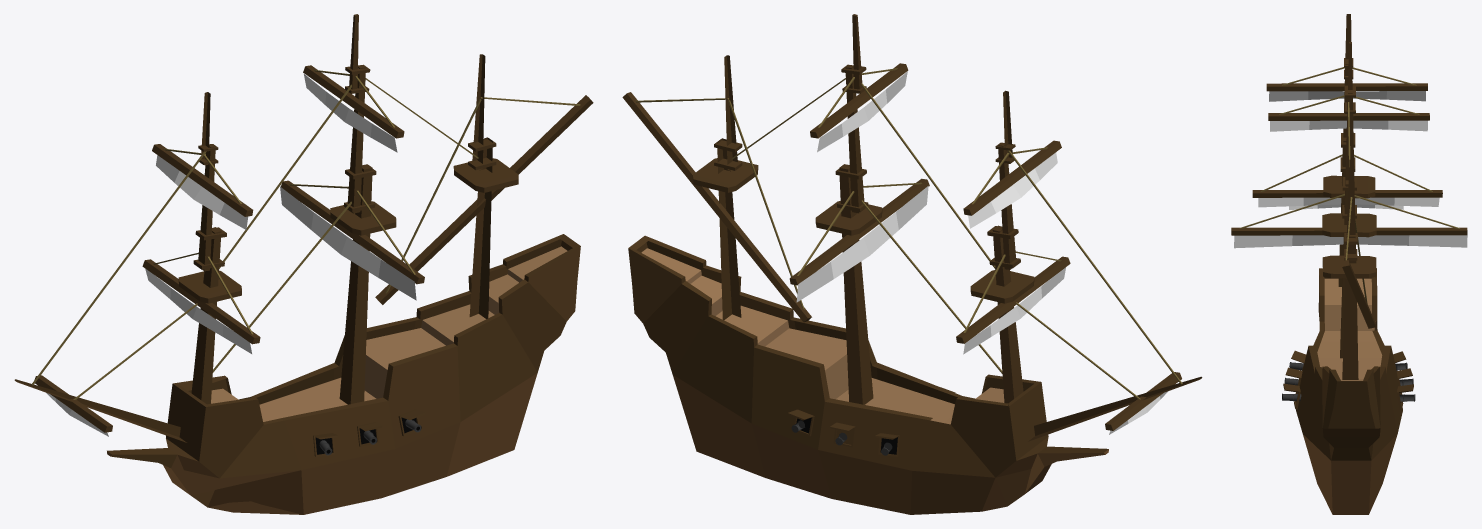
File: galleon_commerce.glb
3 renders of one model, left to right at view 1: azimuth 30°, elevation 25°; view 2: azimuth 150°, elevation 25°; view 3: azimuth 270°, elevation 25°, orthographic. The views are drawn at different scales.
Visible parts, largest first — view 1: Cube.009; view 2: Cube.009; view 3: Cube.009.
Boxes of the visible parts, x1,y1,x2,y2 form: Cube.009: (14,14,593,514); Cube.009: (622,14,1202,514); Cube.009: (1231,14,1467,514).
Bounding box in the file's own units: 3.3 × 2.56 × 1.33.
Materials: 7 (1 with a texture image).
